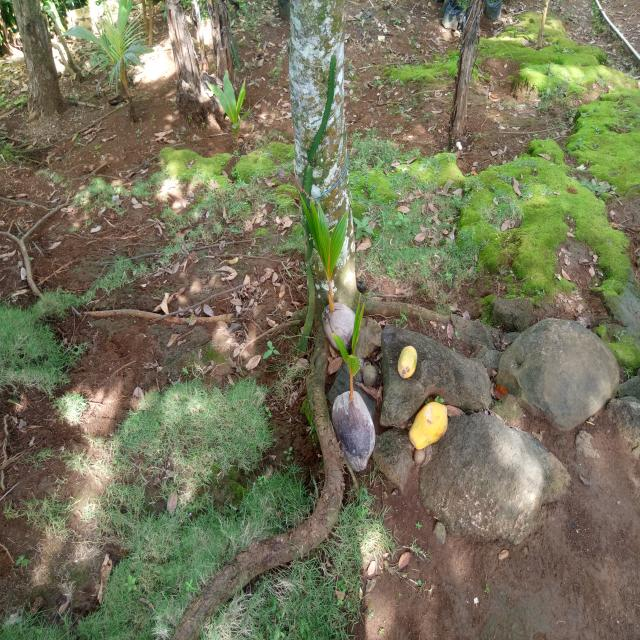Pepaya rippen: (400, 393, 451, 455), (392, 341, 428, 388)
